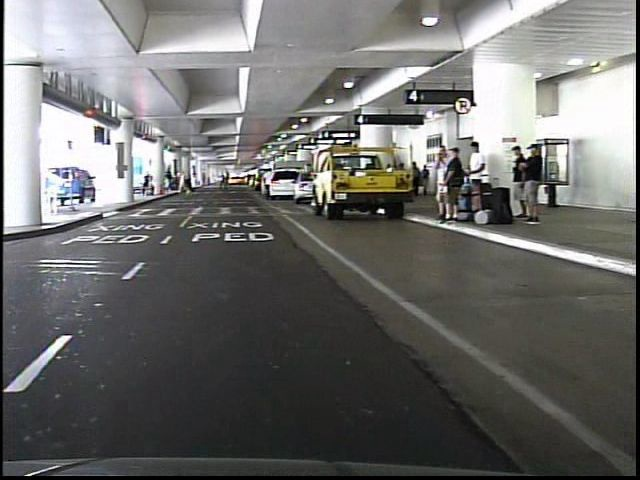person: (518, 144, 538, 228), (425, 144, 444, 218), (170, 165, 185, 199), (257, 165, 272, 191)
